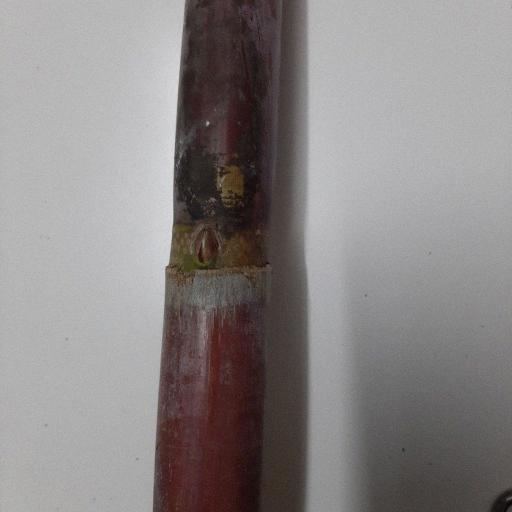Bud: (193, 226, 220, 269)
